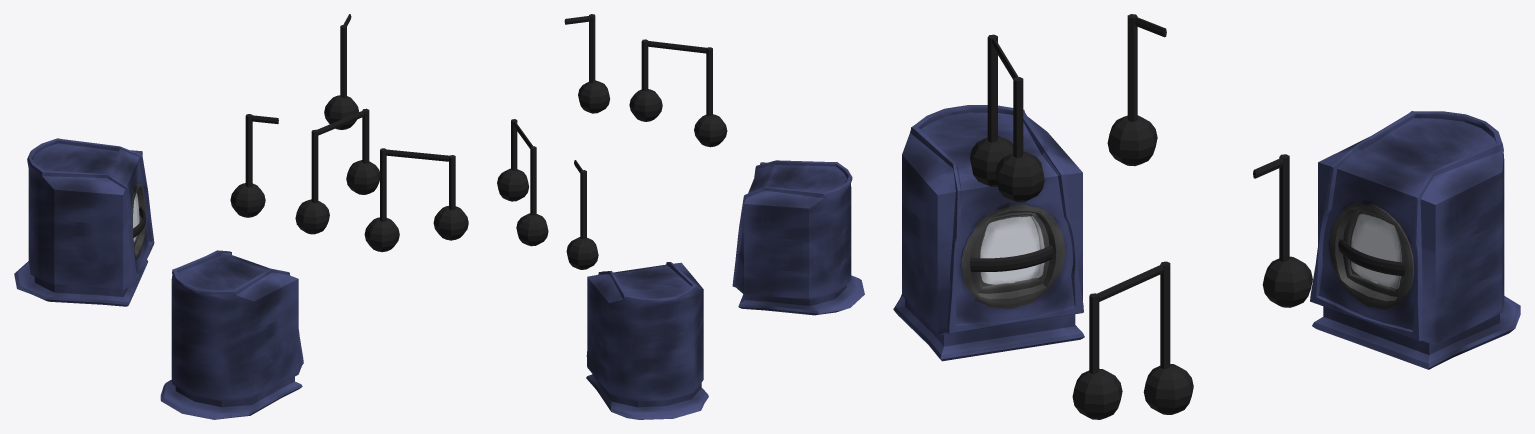
File: SpeakerNotes.fbx
3 views of the same model, side by side, from view 1: azimuth 30°, elevation 25°; view 2: azimuth 150°, elevation 25°; view 3: azimuth 270°, elevation 25° (orthographic). The views are drawn at different scales.
Visible parts, largest first — view 1: speaker (×2), noteBall (×4), noteBall1 (×2), noteStem (×3), noteStem1 (×2), flag; view 2: speaker (×2), noteBall (×4), noteBall1 (×2), noteStem (×3), noteStem1 (×2), flag; view 3: speaker (×2), noteBall (×4), noteStem (×4), noteBall1 (×2), noteStem1 (×2), SoundCurve (×2), flag.
Boxes of the visible parts, x1=… form: speaker (×2): x1=14, y1=138, x2=303, y2=419; noteBall (×4): x1=230, y1=95, x2=468, y2=240; noteBall1 (×2): x1=295, y1=199, x2=399, y2=252; noteStem (×3): x1=245, y1=25, x2=369, y2=187; noteStem1 (×2): x1=311, y1=129, x2=386, y2=221; flag: x1=386, y1=149, x2=449, y2=161; speaker (×2): x1=586, y1=160, x2=864, y2=419; noteBall (×4): x1=497, y1=80, x2=662, y2=269; noteBall1 (×2): x1=516, y1=114, x2=727, y2=246; noteStem (×3): x1=580, y1=14, x2=648, y2=238; noteStem1 (×2): x1=530, y1=47, x2=712, y2=215; flag: x1=647, y1=41, x2=706, y2=53; speaker (×2): x1=893, y1=105, x2=1520, y2=369; noteBall (×4): x1=995, y1=115, x2=1312, y2=419; noteStem (×4): x1=1013, y1=14, x2=1289, y2=373; noteBall1 (×2): x1=970, y1=136, x2=1193, y2=414; noteStem1 (×2): x1=987, y1=34, x2=1170, y2=369; SoundCurve (×2): x1=970, y1=239, x2=1404, y2=276; flag: x1=1097, y1=264, x2=1163, y2=301.
Size of the model in its own units: 3.69 by 3.03 by 4.05.
2 materials, 2 textured.
